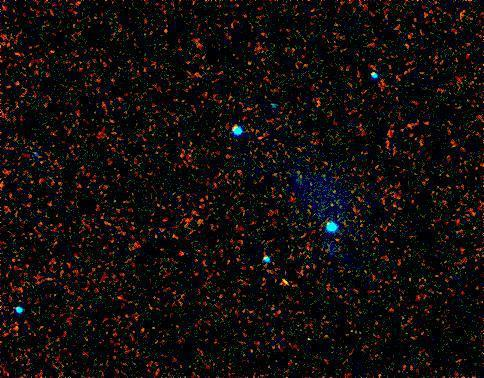star: (270, 268, 300, 298)
